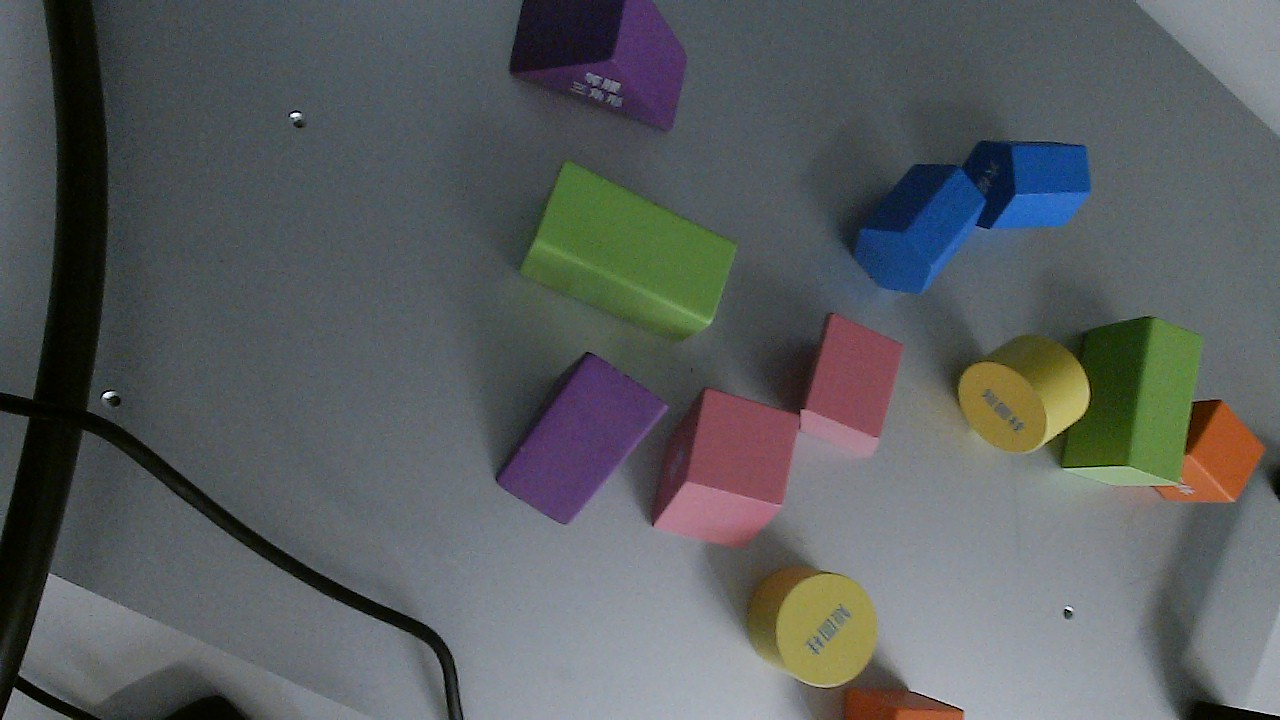circle: (748, 562, 878, 690), (962, 334, 1090, 450)
diamond: (650, 386, 804, 552), (796, 313, 905, 464)
hexagon: (855, 161, 987, 296), (958, 137, 1091, 233)
rectangle: (523, 160, 742, 345), (1058, 318, 1202, 493)
square: (1149, 403, 1266, 505), (838, 688, 965, 720)
triangle: (491, 347, 674, 524), (509, 1, 688, 131)
